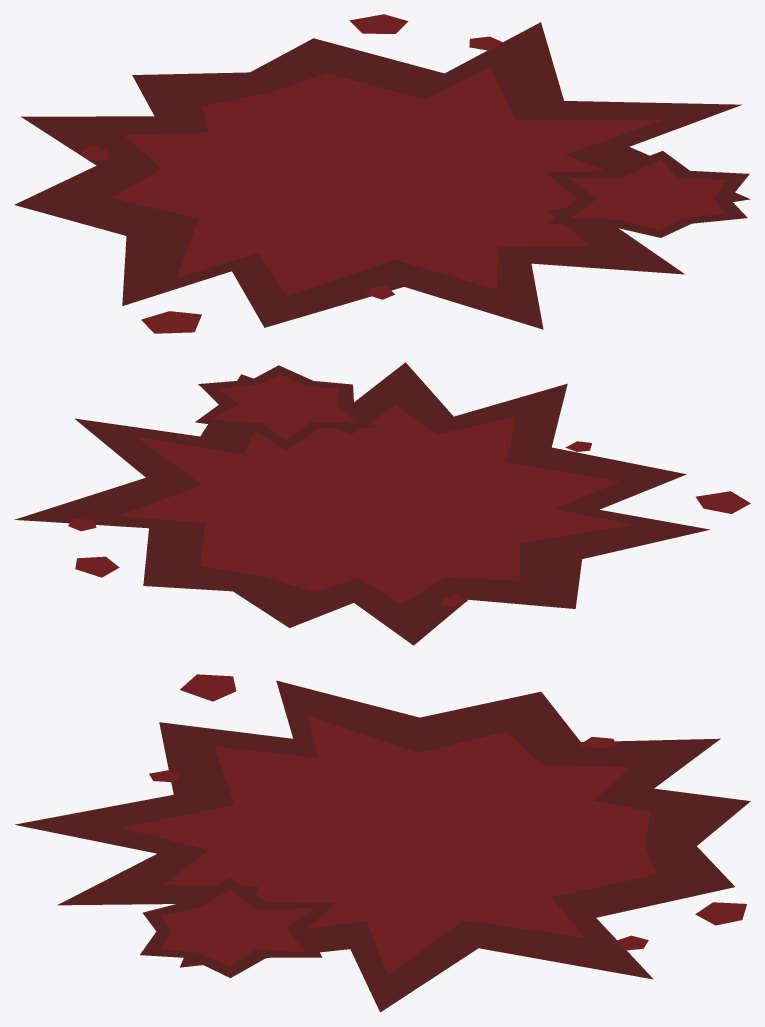
File: blood_splat_a.glb
The picture shows the model from 3 angles, top to bottom: view 1: azimuth 30°, elevation 25°; view 2: azimuth 150°, elevation 25°; view 3: azimuth 270°, elevation 25°; orthographic projection. The views are drawn at different scales.
Visible parts, largest first — view 1: Decal; view 2: Decal; view 3: Decal.
Boxes of the visible parts, <box> form: Decal: <box>14,14,750,333</box>; Decal: <box>14,362,750,645</box>; Decal: <box>15,674,750,1012</box>.
Bounding box in the file's own units: 0.8497 × 0.0051 × 0.7889.
